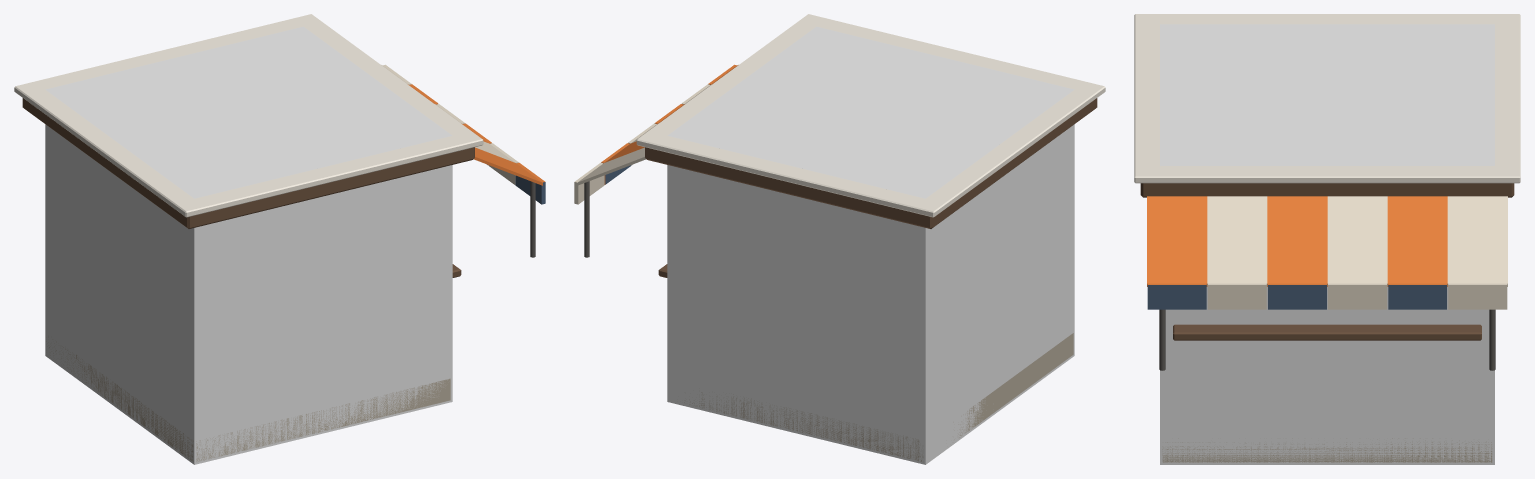
The picture shows the model from 3 angles, left to right: view 1: azimuth 30°, elevation 25°; view 2: azimuth 150°, elevation 25°; view 3: azimuth 270°, elevation 25°; orthographic projection. The views are drawn at different scales.
Parts seen in each view (by area): view 1: col_a_body, T10_a; view 2: col_a_body, T10_a; view 3: col_a_body, T10_a, T10_b.
Part boxes in pixels (x1,y1,x2,y2): col_a_body: (45,26,452,464); T10_a: (14,14,545,461); col_a_body: (667,26,1074,464); T10_a: (574,14,1105,462); col_a_body: (1160,24,1494,464); T10_a: (1134,14,1520,462); T10_b: (1147,285,1446,309).
Size of the model in its own units: 3.68 by 2.56 by 3.
